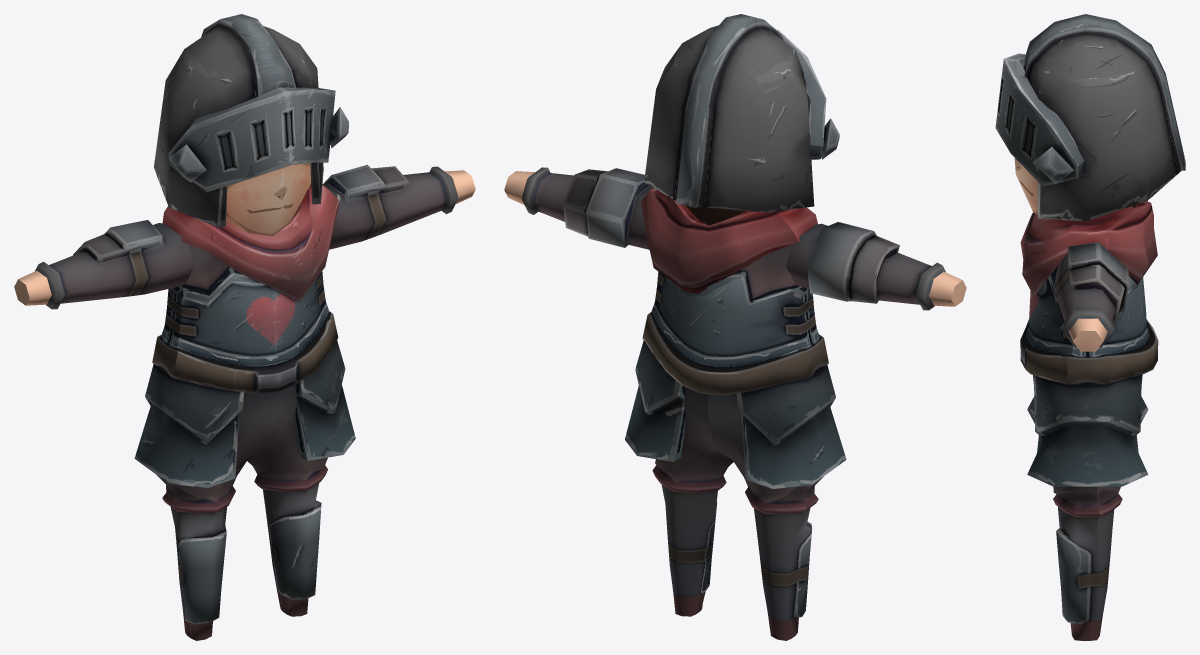
The model's file is ser_skale_dominant_t_pose.FBX.
3 renders of one model, left to right at view 1: azimuth 30°, elevation 25°; view 2: azimuth 150°, elevation 25°; view 3: azimuth 270°, elevation 25°, orthographic.
Visible parts, largest first — view 1: ser_skale_t; view 2: ser_skale_t; view 3: ser_skale_t.
Part boxes in pixels (left/top/right/bottom): ser_skale_t: left=14, top=14, right=475, bottom=640; ser_skale_t: left=504, top=14, right=966, bottom=640; ser_skale_t: left=995, top=14, right=1185, bottom=640.
Bounding box in the file's own units: 29.51 × 38.04 × 11.02.
Materials: 1 (1 with a texture image).
